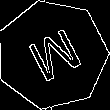M_SE: (20, 22, 85, 87)
